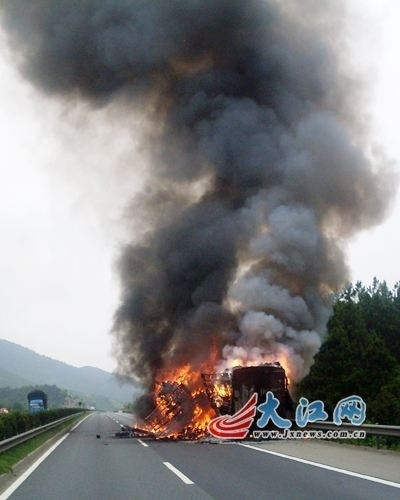fire: (134, 342, 299, 440)
